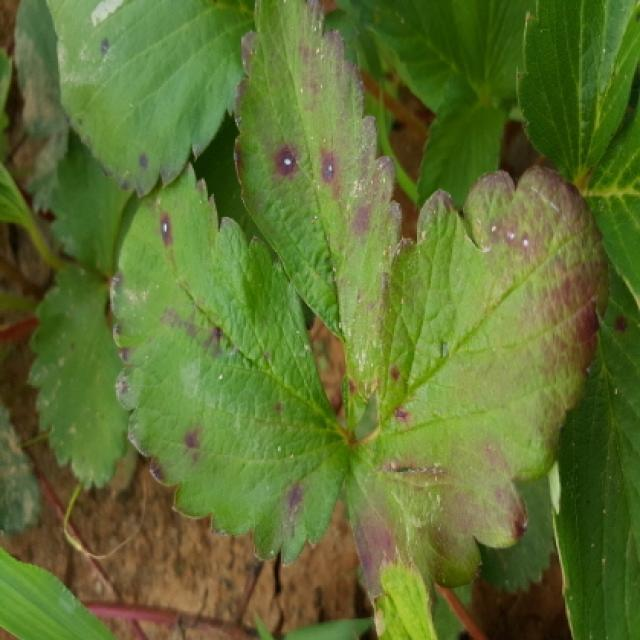Leaf Spot: (338, 165, 607, 617), (109, 160, 354, 569), (231, 0, 402, 433), (46, 0, 257, 201), (548, 254, 638, 638)
